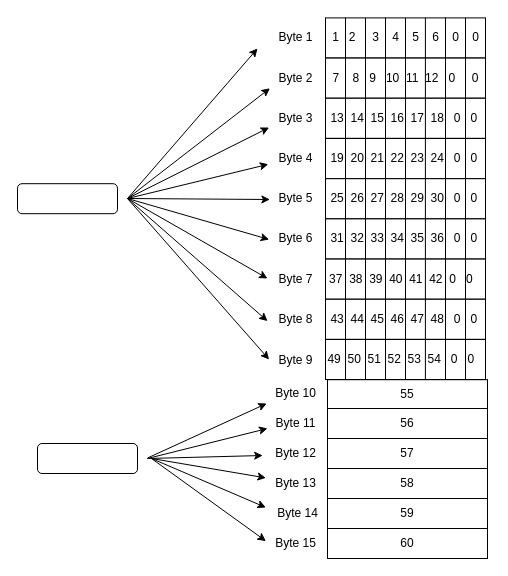
Image size: 508x576. Some labels were removed from this diagram. The shapes that lost their labels are listed below. From the top down, each one's centre as x and y in pixels, then its label:
At [67,198]: "6-bit digital data".
At [87,458]: "8-bit analog data".
